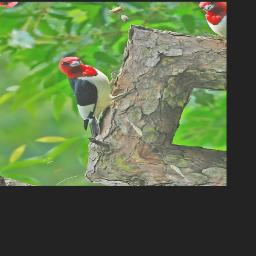Woodpecker: (24, 46, 156, 140)
